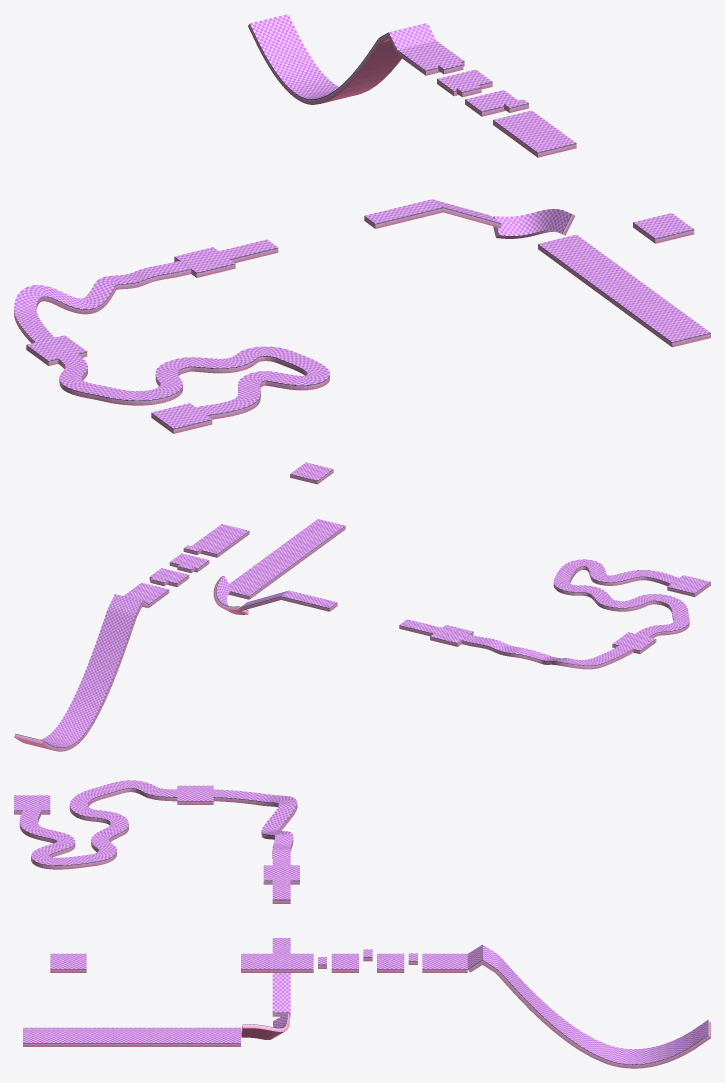
Rendered from level_2.glb.
3 views of the same model, one above another, from view 1: azimuth 30°, elevation 25°; view 2: azimuth 150°, elevation 25°; view 3: azimuth 270°, elevation 25° (orthographic). The views are drawn at different scales.
Parts seen in each view (by area): view 1: Path -col, Halfcube9 -col, Path template -col.001, Path2 -col, Halfcube11 -col, Path template -col, Halfcube13 -col, Halfcube -col, Halfcube12 -col, Halfcube5 -col, Halfcube3 -col, Halfcube2 -col (+4 smaller); view 2: Path template -col.001, Path -col, Halfcube9 -col, Path2 -col, Halfcube11 -col, Halfcube5 -col, Halfcube -col, Halfcube12 -col, Halfcube13 -col, Halfcube3 -col, Halfcube2 -col, Path template -col (+1 smaller); view 3: Path -col, Path template -col.001, Halfcube9 -col, Path2 -col, Halfcube11 -col, Halfcube13 -col, Halfcube6 -col, Path template -col, Halfcube2 -col, Halfcube12 -col, Halfcube3 -col, Halfcube -col (+2 smaller).
Part boxes in pixels (x1=…): Path -col: x1=58, y1=346, x2=329, y2=419; Halfcube9 -col: x1=538, y1=234, x2=710, y2=347; Path template -col.001: x1=248, y1=14, x2=401, y2=104; Path2 -col: x1=14, y1=261, x2=191, y2=343; Halfcube11 -col: x1=493, y1=110, x2=576, y2=157; Path template -col: x1=493, y1=209, x2=574, y2=238; Halfcube13 -col: x1=398, y1=41, x2=464, y2=75; Halfcube -col: x1=151, y1=403, x2=212, y2=433; Halfcube12 -col: x1=633, y1=213, x2=694, y2=243; Halfcube5 -col: x1=364, y1=199, x2=443, y2=228; Halfcube3 -col: x1=174, y1=247, x2=235, y2=277; Halfcube2 -col: x1=26, y1=335, x2=87, y2=365; Path template -col.001: x1=14, y1=607, x2=137, y2=751; Path -col: x1=553, y1=559, x2=689, y2=637; Halfcube9 -col: x1=228, y1=519, x2=345, y2=599; Path2 -col: x1=461, y1=634, x2=633, y2=669; Halfcube11 -col: x1=191, y1=524, x2=249, y2=557; Halfcube5 -col: x1=281, y1=590, x2=337, y2=611; Halfcube -col: x1=667, y1=575, x2=710, y2=596; Halfcube12 -col: x1=290, y1=462, x2=333, y2=484; Halfcube13 -col: x1=123, y1=582, x2=169, y2=607; Halfcube3 -col: x1=430, y1=625, x2=473, y2=646; Halfcube2 -col: x1=612, y1=632, x2=656, y2=653; Path template -col: x1=213, y1=576, x2=248, y2=614; Path -col: x1=19, y1=780, x2=177, y2=869; Path template -col.001: x1=495, y1=954, x2=710, y2=1068; Halfcube9 -col: x1=23, y1=1027, x2=240, y2=1046; Path2 -col: x1=213, y1=789, x2=297, y2=865; Halfcube11 -col: x1=241, y1=953, x2=313, y2=972; Halfcube13 -col: x1=422, y1=953, x2=467, y2=972; Halfcube6 -col: x1=272, y1=973, x2=290, y2=1016; Path template -col: x1=241, y1=1013, x2=290, y2=1039; Halfcube2 -col: x1=177, y1=785, x2=213, y2=804; Halfcube12 -col: x1=50, y1=953, x2=86, y2=972; Halfcube3 -col: x1=263, y1=865, x2=299, y2=884; Halfcube -col: x1=14, y1=795, x2=50, y2=814.
Bounding box in the file's own units: 120 × 26.44 × 154.
1 material, 1 textured.
